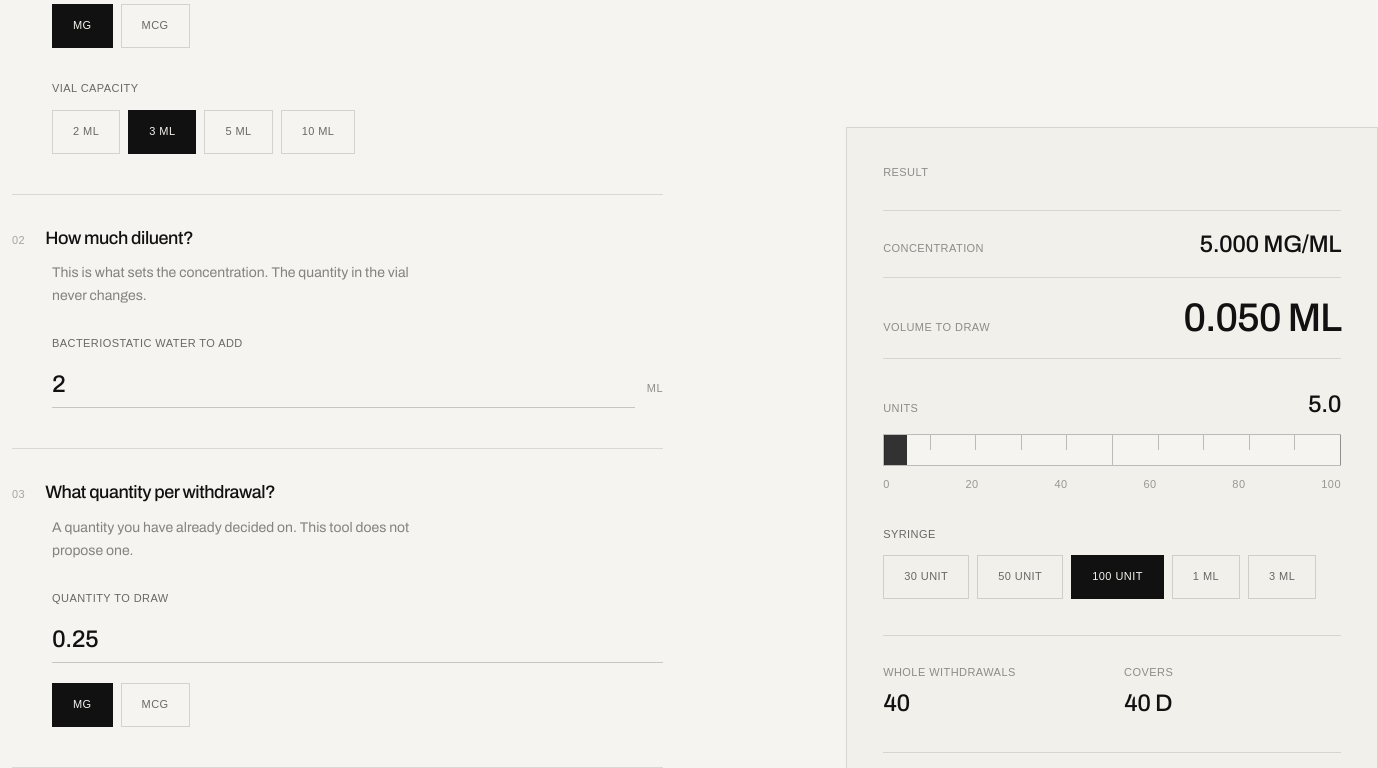
it: reconstitute › restores the defaults on reset
This screenshot has width=1378, height=768.
(page scrolled)
Replace the text in the number field labelled "Bacteriostatic water to add" with "8" at (343, 385), box [52,361,635,408]
(page scrolled)
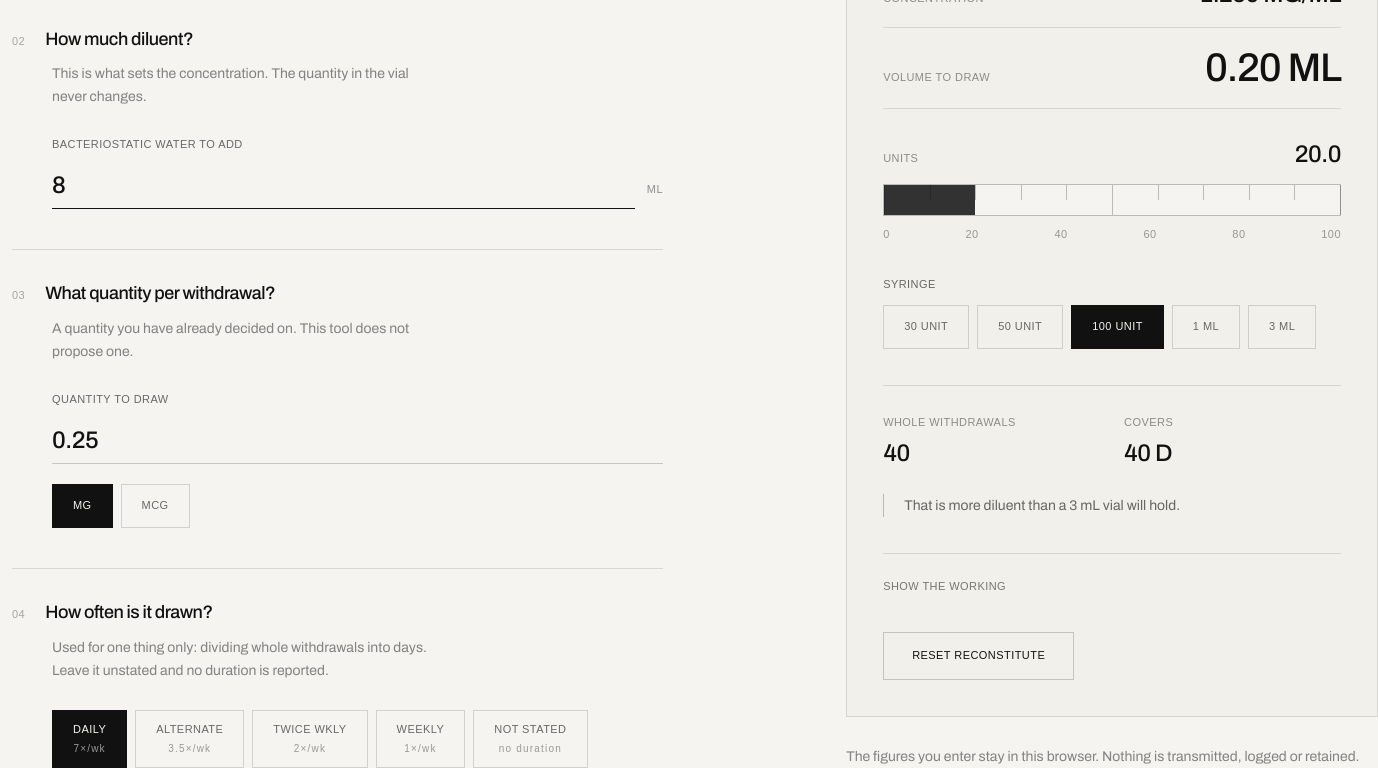
Expected: the text "5.000 mg/mL" is not shown
Click the button "Reset reconstitute" at (979, 656), box [883,632,1074,680]
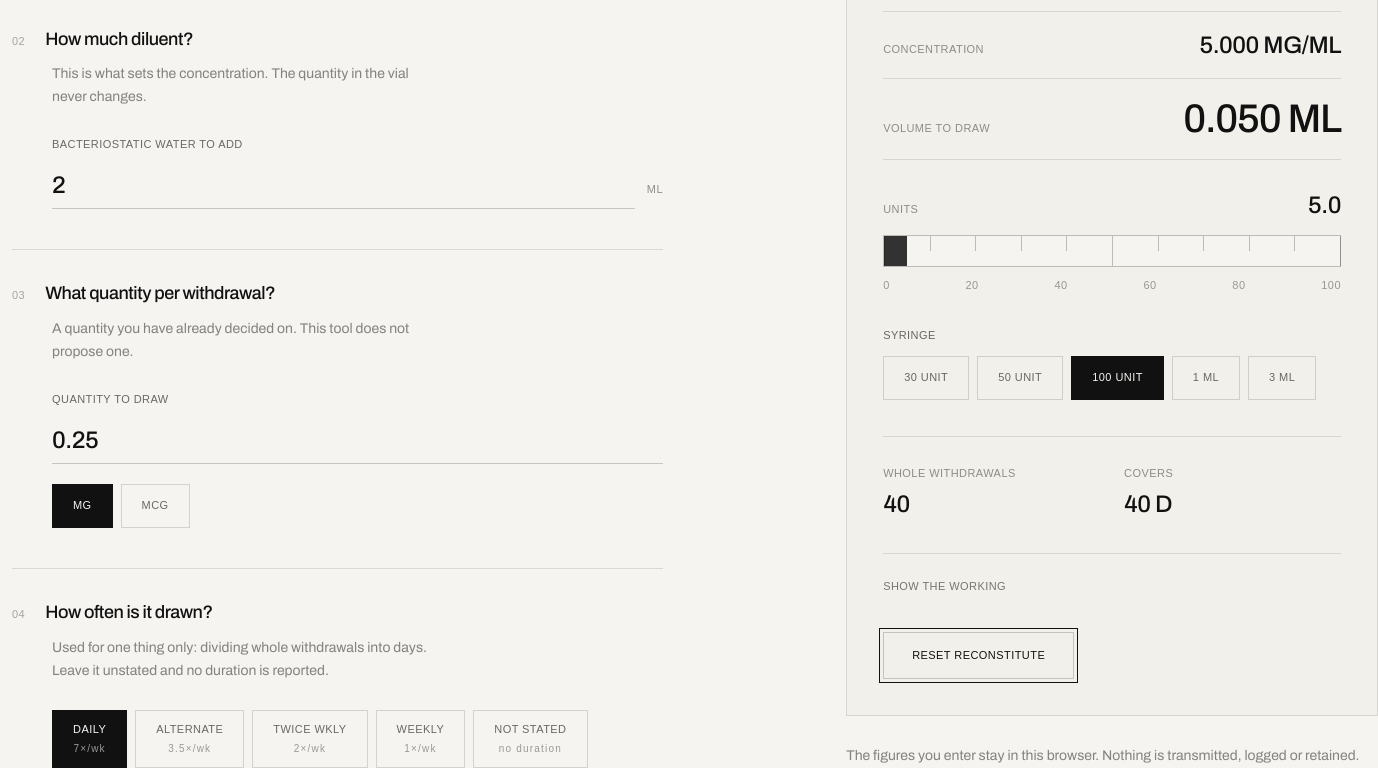
Expected: the text "5.000 mg/mL" is shown, [1199,32,1341,58]
